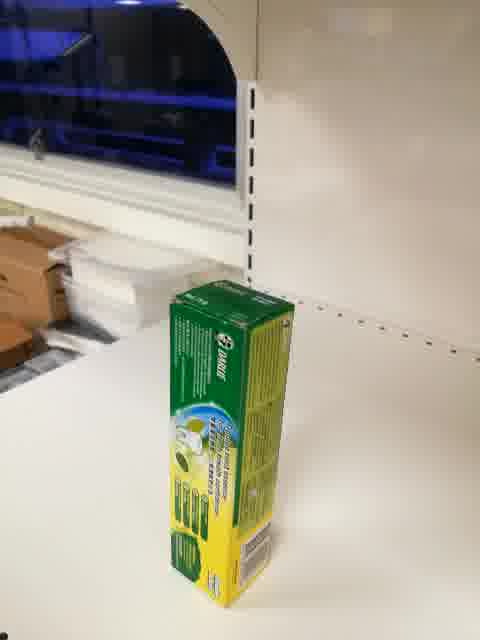toothpaste: (170, 279, 294, 608)
